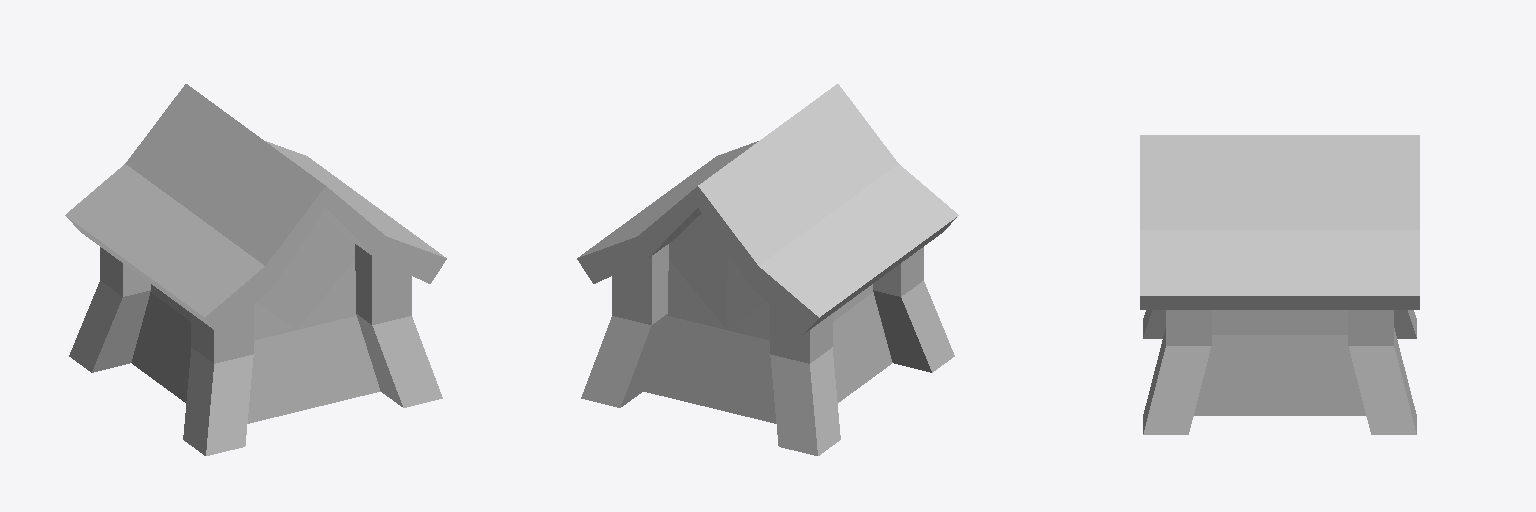
File: house.obj
The picture shows the model from 3 angles: view 1: azimuth 30°, elevation 25°; view 2: azimuth 150°, elevation 25°; view 3: azimuth 270°, elevation 25°; orthographic projection.
Parts seen in each view (by area): view 1: Plane; view 2: Plane; view 3: Plane.
Part boxes in pixels (left/top/right/bottom): Plane: left=65, top=84, right=446, bottom=455; Plane: left=577, top=84, right=958, bottom=455; Plane: left=1140, top=135, right=1419, bottom=434.
Bounding box in the file's own units: 3.07 × 2.93 × 3.07.